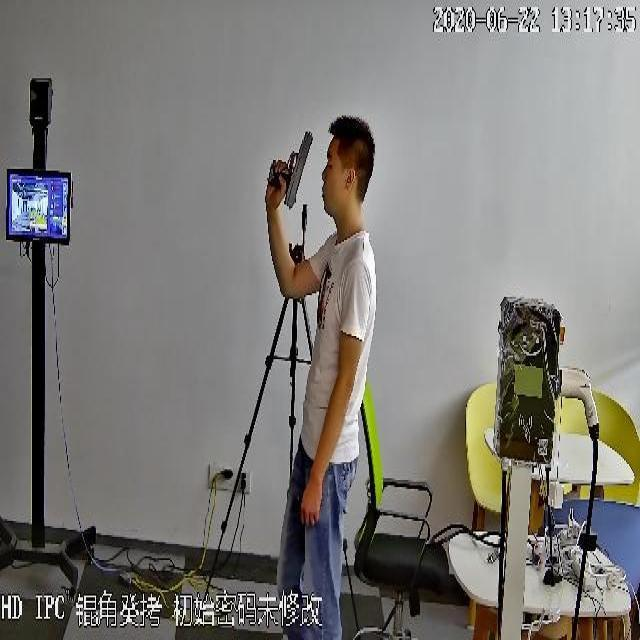pistol: (269, 128, 314, 214)
